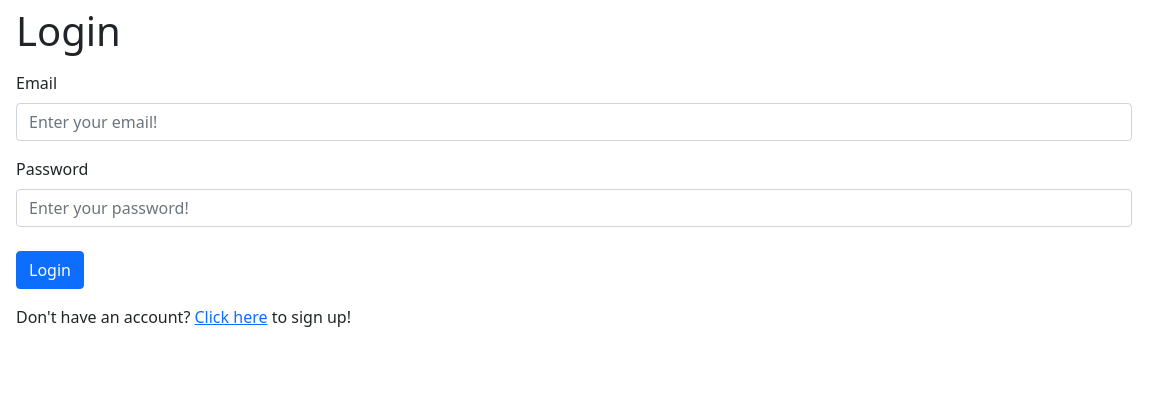
Test: login page tests › not filling both the email and password fields yield both errors
Click the button "Login" at {"x": 50, "y": 270}, box [16,251,84,289]
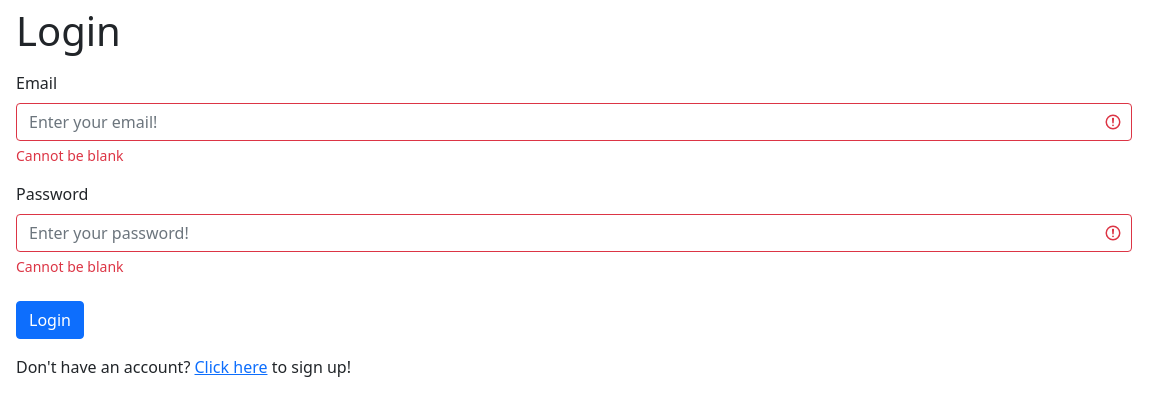
Now the element with test id "input" shows "Cannot be blank", box [16,146,124,165]
